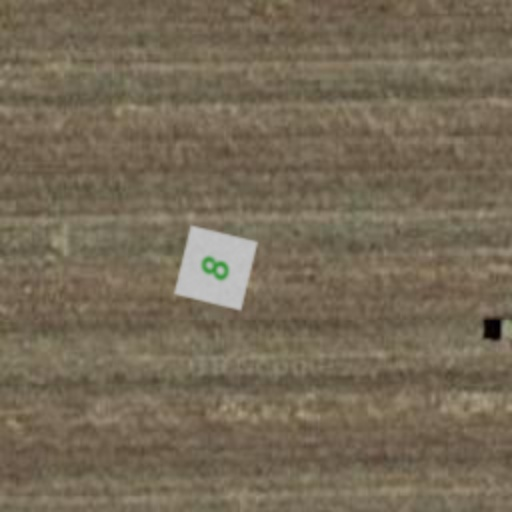rectangle: (172, 224, 260, 312)
